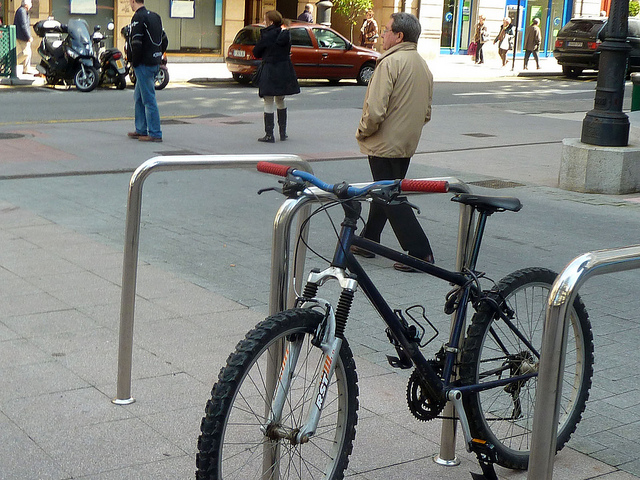Bicycle: (203, 160, 599, 480)
Car: (233, 20, 378, 83), (558, 18, 613, 77)
Person: (367, 11, 427, 189), (124, 3, 178, 141)
